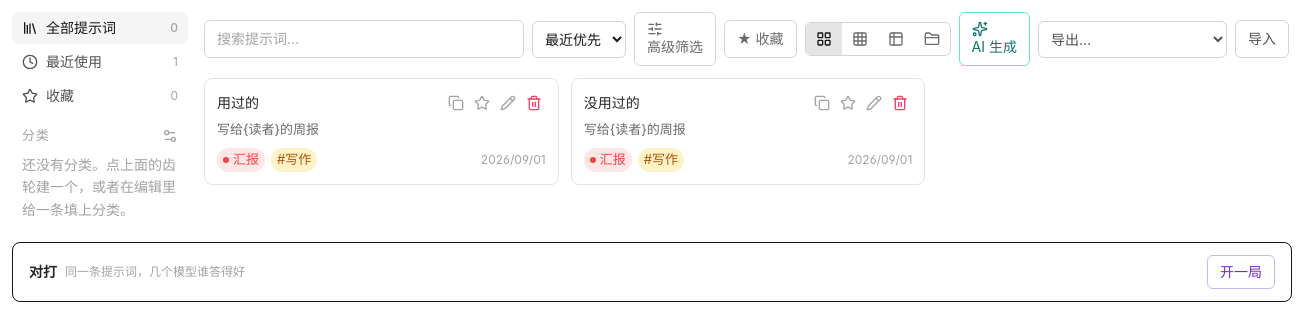
Test case: PromptLibrary · 左导航与排序 › 左导航的「最近使用」把从没用过的挡在外面
The width and height of the screenshot is (1304, 319).
Expected: the button "用过的" is shown, [217,93,440,113]
Click the text "最近使用": (74,62) [46,53,102,70]
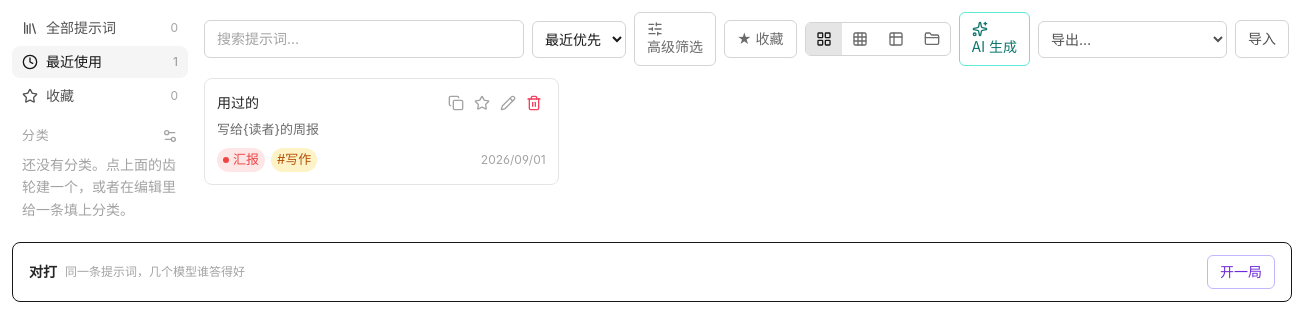
Expected: the button "用过的" is shown, [217,93,440,113]
Expected: the button "没用过的" is gone
